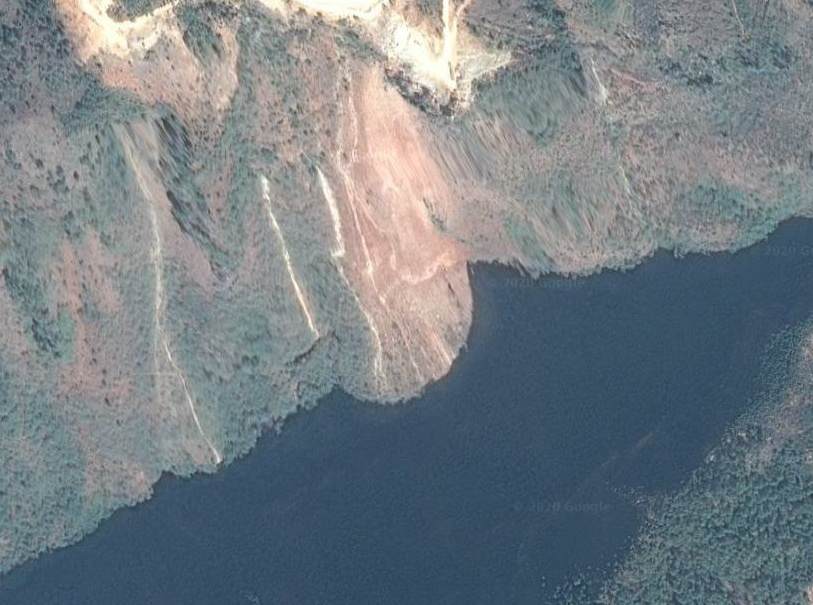slope: (331, 40, 467, 392), (260, 0, 516, 105), (57, 0, 189, 63)
